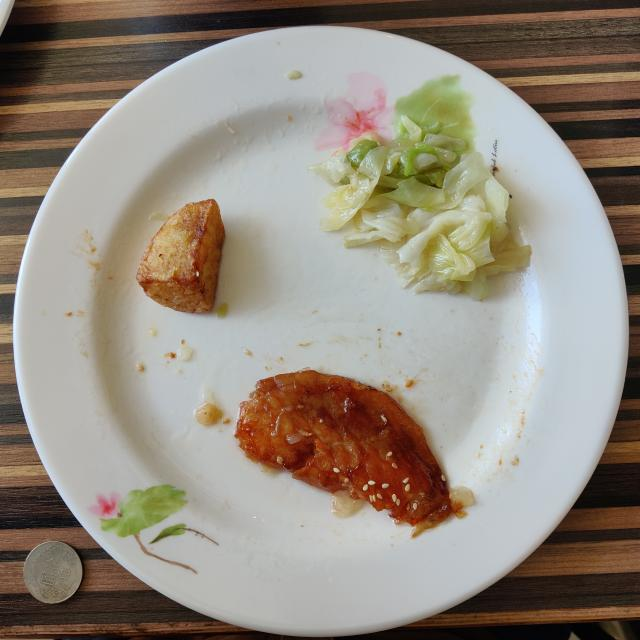Kabayaki sea bream fillet: (235, 370, 459, 532)
cabbage: (311, 115, 530, 300)
coin: (24, 541, 82, 604)
fried potato: (136, 199, 225, 312)
